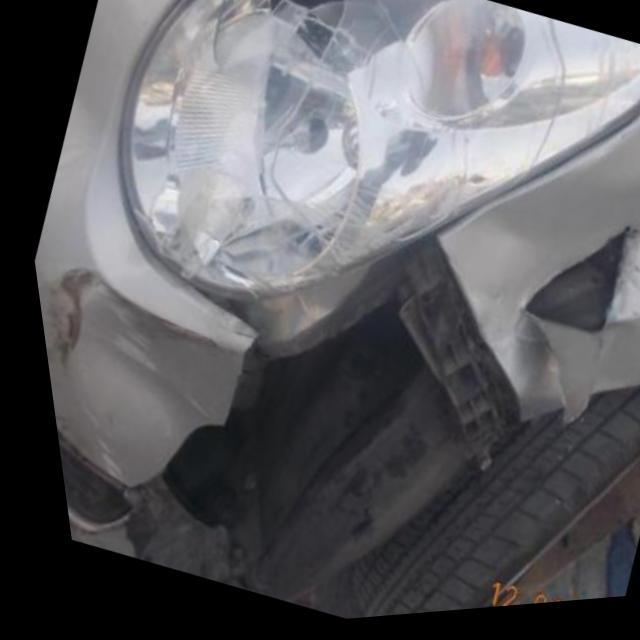crack: (510, 236, 622, 339)
dent: (467, 311, 595, 431)
lamp broken: (240, 0, 408, 38)
no part: (107, 242, 514, 605)
scratch: (77, 266, 212, 360), (39, 263, 94, 363)
